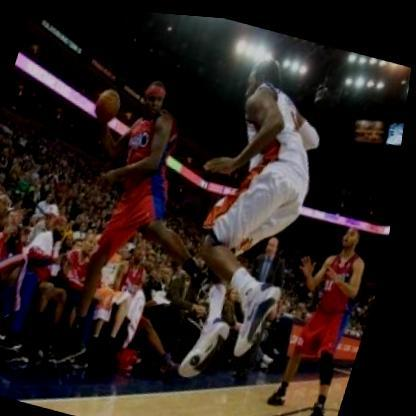basketball: (93, 83, 128, 123)
